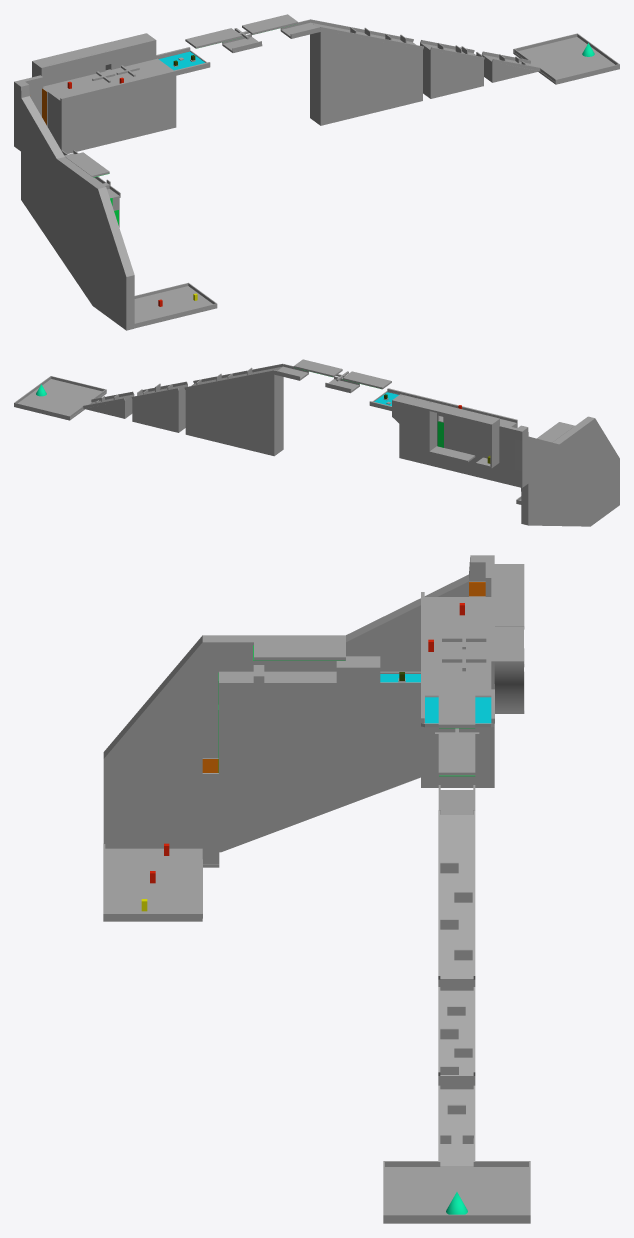
File: Level3fbx.fbx
The picture shows the model from 3 angles, top to bottom: view 1: azimuth 30°, elevation 25°; view 2: azimuth 150°, elevation 25°; view 3: azimuth 270°, elevation 25°; orthographic projection. The views are drawn at different scales.
Parts seen in each view (by area): view 1: pCube141, pCube119, pCube144, pCube120, pCube113, pCube1, pCube68, pCube121, pCube165, pCube71, pCube154, pCube167 (+3 smaller); view 2: pCube141, pCube119, pCube144, pCube120, pCube113, pCube73, pCube143, pCube121, pCube71, pCube165, pCube173, pCube167 (+8 smaller); view 3: pCube141, pCube144, pCube113, pCube1, pCube119, pCube120, pCube132, pCube73, pCube121, pCube71, pCube133, ParedSalto04 (+6 smaller).
Part boxes in pixels (x1,y1,x2,y2): pCube141: (14,79,134,330); pCube119: (310,23,422,125); pCube144: (43,59,176,153); pCube120: (420,43,483,98); pCube113: (513,37,619,84); pCube1: (134,286,217,328); pCube68: (40,39,156,80); pCube121: (481,54,539,82); pCube165: (60,62,210,101); pCube71: (32,43,113,68); pCube154: (156,50,210,75); pCube167: (185,28,241,48); pCube141: (515,416,619,526); pCube119: (185,366,283,456); pCube144: (399,416,517,482); pCube120: (132,384,187,432); pCube113: (14,379,106,420); pCube73: (392,395,436,451); pCube143: (499,424,516,486); pCube121: (84,394,134,418); pCube71: (428,403,499,426); pCube165: (387,388,517,422); pCube173: (293,359,342,377); pCube167: (343,371,391,389); pCube141: (103,555,494,852); pCube144: (421,597,494,787); pCube113: (383,1166,530,1223); pCube1: (103,848,202,921); pCube119: (438,815,475,990); pCube120: (438,990,475,1089); pCube132: (219,671,420,691); pCube73: (494,626,523,711); pCube121: (440,1089,473,1165); pCube71: (494,564,524,629); pCube133: (254,642,345,660); ParedSalto04: (202,773,219,863).
Bounding box in the file's own units: 313 × 91.01 × 116.
